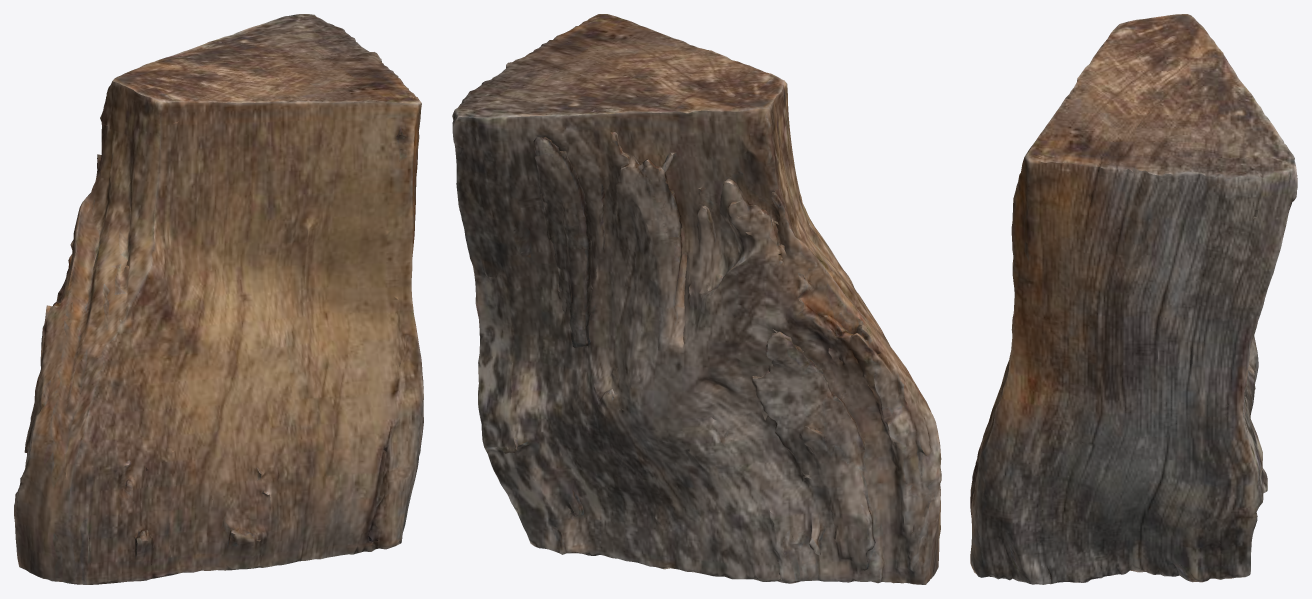
File: log.glb
3 views of the same model, side by side, from view 1: azimuth 30°, elevation 25°; view 2: azimuth 150°, elevation 25°; view 3: azimuth 270°, elevation 25° (orthographic). The views are drawn at different scales.
Visible parts, largest first — view 1: Object_2; view 2: Object_2; view 3: Object_2.
Part boxes in pixels (box(x1,y1,x2,y2)): Object_2: box(14, 14, 423, 584); Object_2: box(452, 14, 941, 584); Object_2: box(970, 14, 1297, 584).
Size of the model in its own units: 0.4548 by 0.4976 by 0.3154.
1 material, 1 textured.
